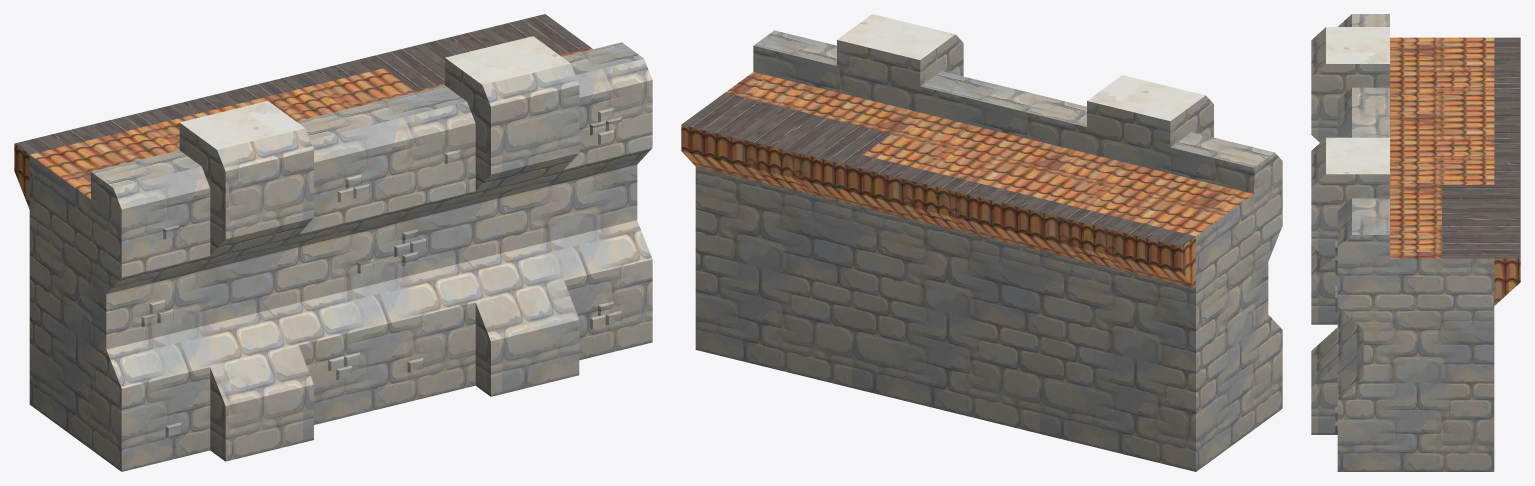
The model's file is wall_straight.gltf.
3 views of the same model, side by side, from view 1: azimuth 30°, elevation 25°; view 2: azimuth 150°, elevation 25°; view 3: azimuth 270°, elevation 25° (orthographic). The views are drawn at different scales.
Parts seen in each view (by area): view 1: wall_straight; view 2: wall_straight; view 3: wall_straight.
Part boxes in pixels (left/top/right/bottom): wall_straight: left=14, top=14, right=652, bottom=471; wall_straight: left=681, top=14, right=1282, bottom=471; wall_straight: left=1311, top=14, right=1520, bottom=471.
Bounding box in the file's own units: 2 × 1.1 × 0.8.
4 materials, 4 textured.
